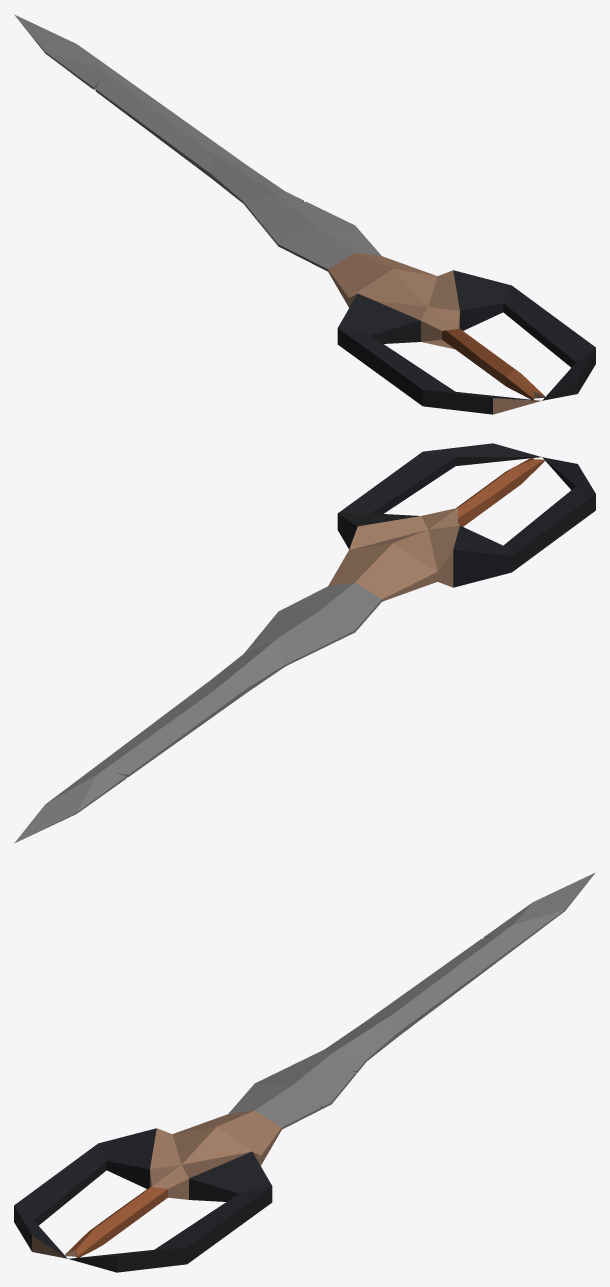
Rendered from paladinSword.fbx.
3 views of the same model, one above another, from view 1: azimuth 30°, elevation 25°; view 2: azimuth 150°, elevation 25°; view 3: azimuth 330°, elevation 25° (orthographic).
Parts seen in each view (by area): view 1: Cube.001; view 2: Cube.001; view 3: Cube.001.
Part boxes in pixels (<box>): Cube.001: <box>14,14,595,414</box>; Cube.001: <box>14,443,595,843</box>; Cube.001: <box>14,872,595,1272</box>.
Size of the model in its own units: 75.14 by 19.17 by 395.
